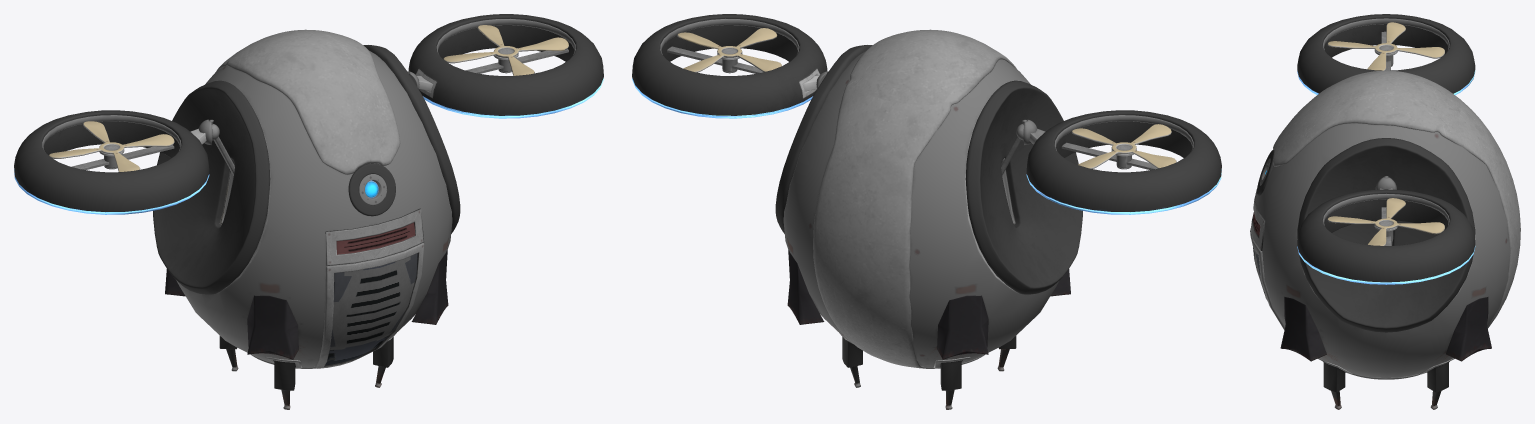
The model's file is bot.glb.
3 renders of one model, left to right at view 1: azimuth 30°, elevation 25°; view 2: azimuth 150°, elevation 25°; view 3: azimuth 270°, elevation 25°, orthographic. The views are drawn at different scales.
Parts seen in each view (by area): view 1: Sphere; view 2: Sphere; view 3: Sphere.
Part boxes in pixels (x1,y1,x2,y2): Sphere: (14, 14, 603, 409); Sphere: (632, 14, 1221, 409); Sphere: (1250, 14, 1520, 409).
Size of the model in its own units: 3.52 by 2.03 by 1.61.
1 material, 1 textured.
